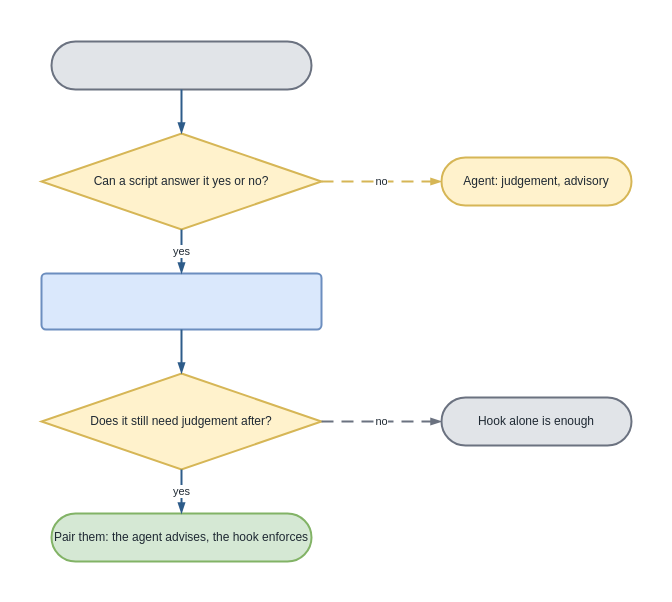
Image size: 672x602. Some labels were removed from this diagram. The box of each missing label's shape, as (x1, y1, x2, y2) in pixels:
A job the release needs: (50, 40, 312, 90)
Write it as a hook that exits 1: (40, 272, 322, 330)
